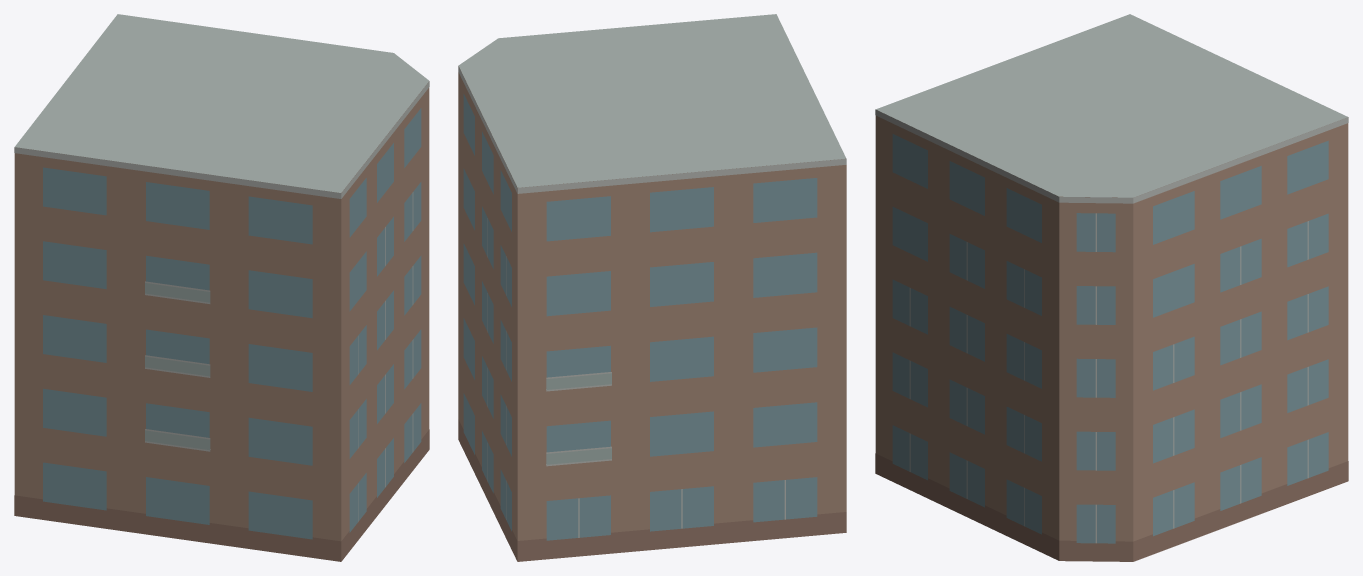
The model's file is survey-upis-32463876.glb.
3 renders of one model, left to right at view 1: azimuth 30°, elevation 25°; view 2: azimuth 150°, elevation 25°; view 3: azimuth 270°, elevation 25°, orthographic. The views are drawn at different scales.
Parts seen in each view (by area): view 1: survey-upis-32463876.tmp; view 2: survey-upis-32463876.tmp; view 3: survey-upis-32463876.tmp.
Part boxes in pixels (box(x1,y1,x2,y2)): survey-upis-32463876.tmp: box(14, 14, 429, 561); survey-upis-32463876.tmp: box(458, 14, 846, 561); survey-upis-32463876.tmp: box(875, 14, 1348, 561).
Bounding box in the file's own units: 16.12 × 14.9 × 17.54.
